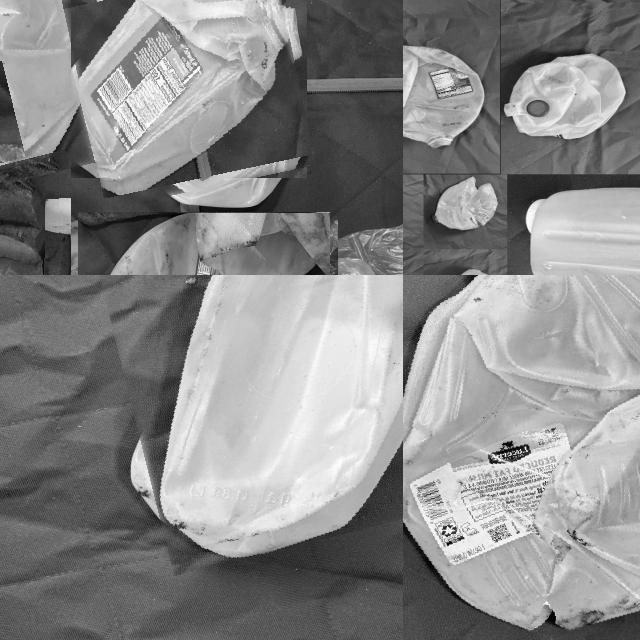milk-jug: (403, 275, 640, 640), (107, 275, 403, 557), (71, 0, 306, 198), (0, 0, 82, 202), (74, 215, 334, 275), (512, 52, 626, 144), (527, 188, 640, 275), (403, 43, 490, 151), (429, 179, 503, 233)
